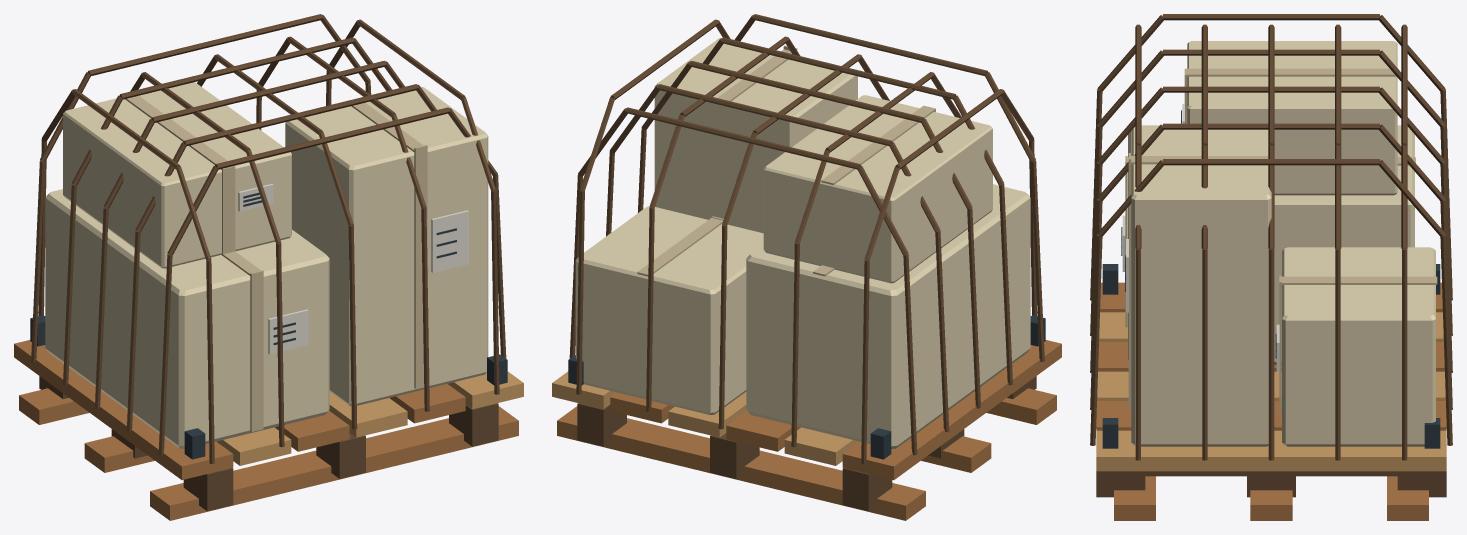
Rendered from b14_cargo_net_secured_mixed_freight.glb.
3 renders of one model, left to right at view 1: azimuth 30°, elevation 25°; view 2: azimuth 150°, elevation 25°; view 3: azimuth 270°, elevation 25°, orthographic. The views are drawn at different scales.
Parts seen in each view (by area): view 1: b14_cargo_net_secured_mixed_freight; view 2: b14_cargo_net_secured_mixed_freight; view 3: b14_cargo_net_secured_mixed_freight.
Boxes of the visible parts, x1,y1,x2,y2 form: b14_cargo_net_secured_mixed_freight: (14, 14, 523, 520); b14_cargo_net_secured_mixed_freight: (552, 14, 1061, 520); b14_cargo_net_secured_mixed_freight: (1090, 14, 1452, 520).
Bounding box in the file's own units: 1.2 × 1.1 × 1.04.
